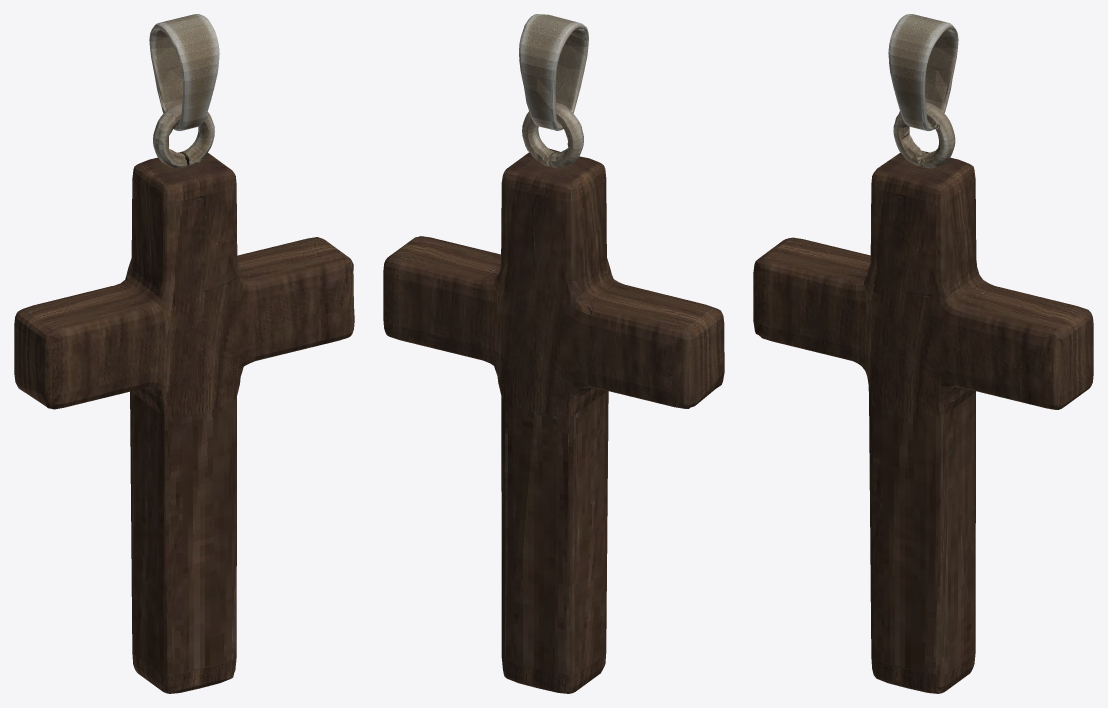
File: ewm_crosspendant.glb
3 views of the same model, side by side, from view 1: azimuth 30°, elevation 25°; view 2: azimuth 150°, elevation 25°; view 3: azimuth 330°, elevation 25° (orthographic).
Visible parts, largest first — view 1: ewm_crosspendant; view 2: ewm_crosspendant; view 3: ewm_crosspendant.
Part boxes in pixels (x1,y1,x2,y2): ewm_crosspendant: [14, 14, 354, 693]; ewm_crosspendant: [383, 14, 724, 693]; ewm_crosspendant: [753, 14, 1093, 693].
Size of the model in its own units: 0.0546 by 0.11 by 0.0117.
1 material, 1 textured.
